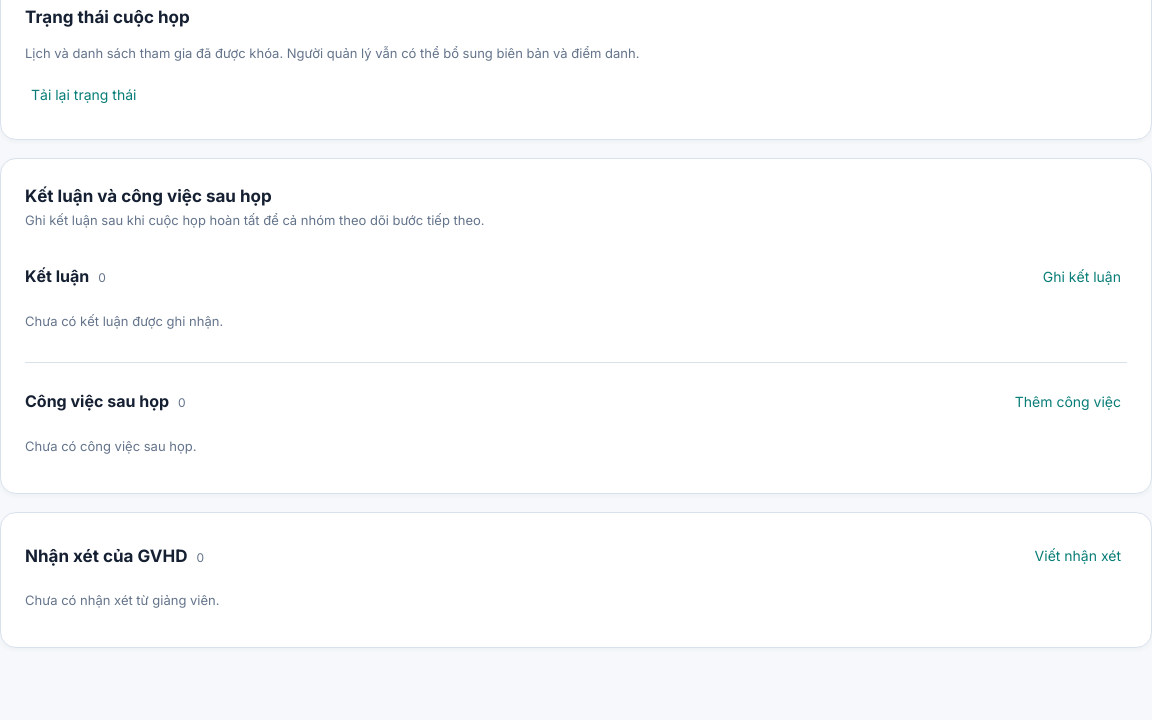
it: Meetings end-user workflow › allows the assignment-scoped supervisor to open the established meeting governance controls
(page scrolled)
Check: the text "Chưa có công việc sau họp." is shown, box [25,438,196,454]
Click the button "Thêm công việc" at [1068, 402], box [1009,383,1127,421]
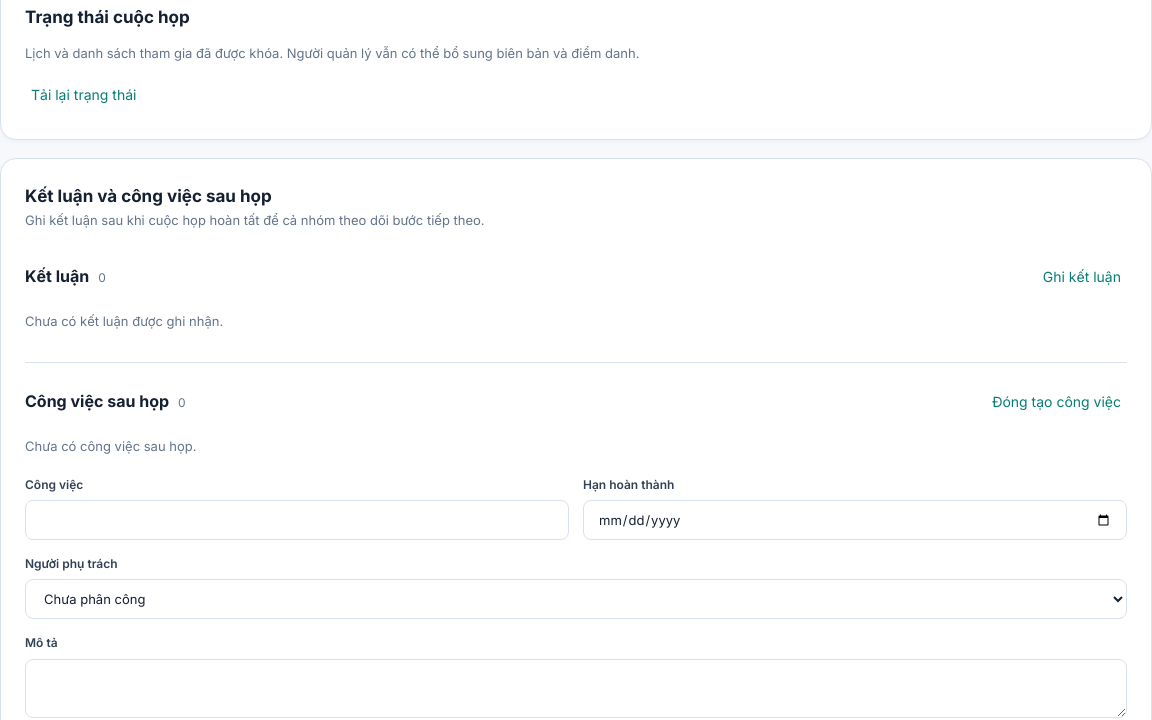
Check: the field labelled "Công việc" is shown, box [25,500,569,540]
